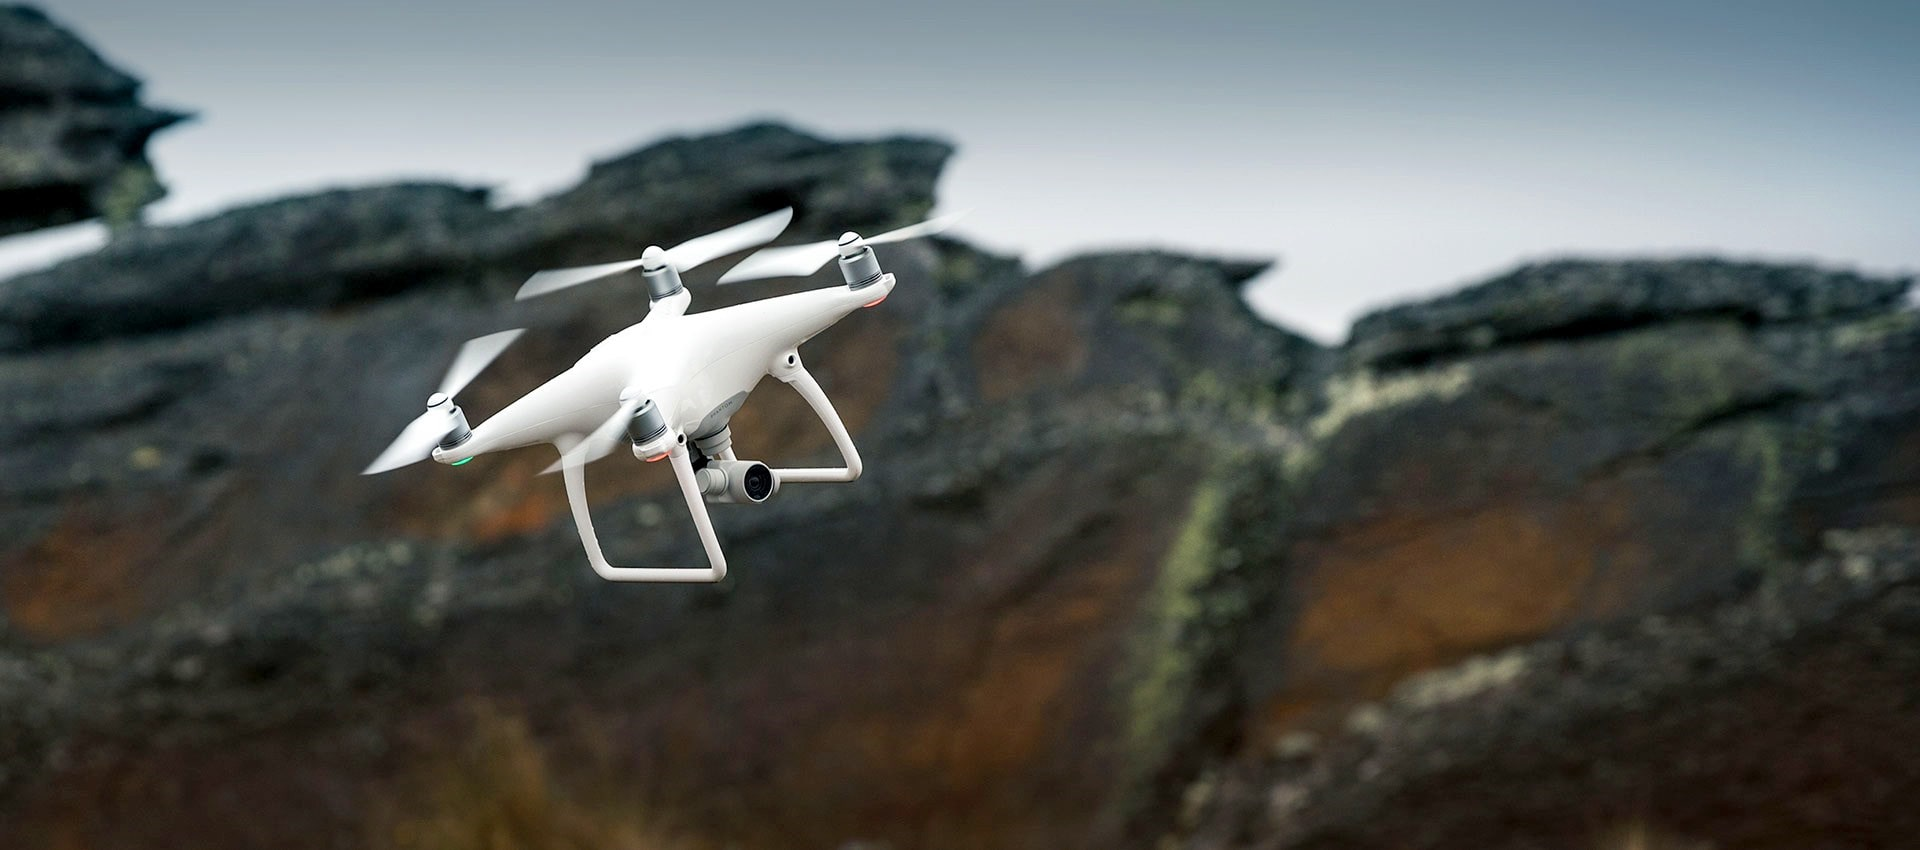drone: (355, 205, 966, 589)
